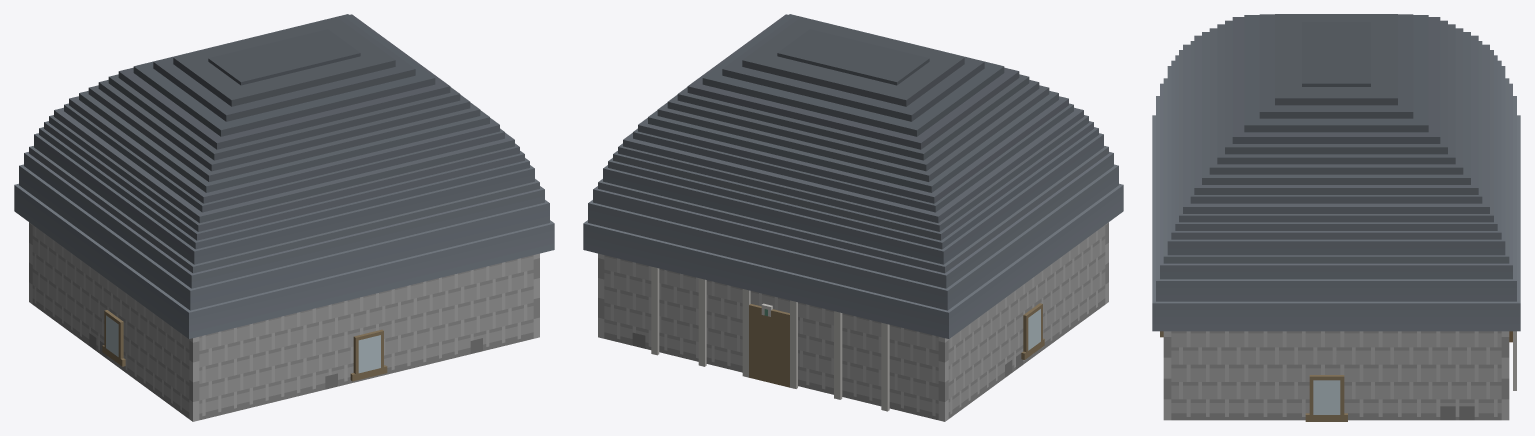
Rendered from biblioteca_publica_01.glb.
3 views of the same model, side by side, from view 1: azimuth 30°, elevation 25°; view 2: azimuth 150°, elevation 25°; view 3: azimuth 270°, elevation 25° (orthographic). The views are drawn at different scales.
Parts seen in each view (by area): view 1: biblioteca_publica_01; view 2: biblioteca_publica_01; view 3: biblioteca_publica_01.
Boxes of the visible parts, box(x1,y1,x2,y2) form: biblioteca_publica_01: box(14, 14, 554, 421); biblioteca_publica_01: box(583, 14, 1123, 421); biblioteca_publica_01: box(1152, 14, 1520, 421).
Size of the model in its own units: 11.6 by 8 by 9.6.
